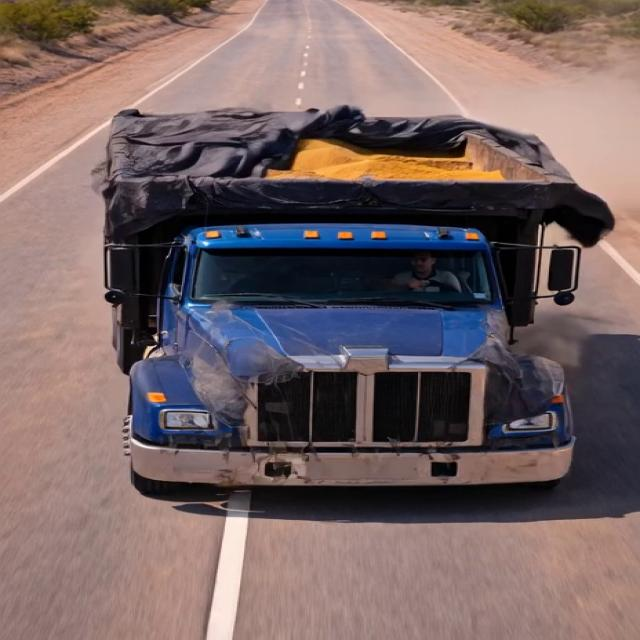Box: (98, 105, 560, 201)
Truck: (75, 62, 609, 494)
